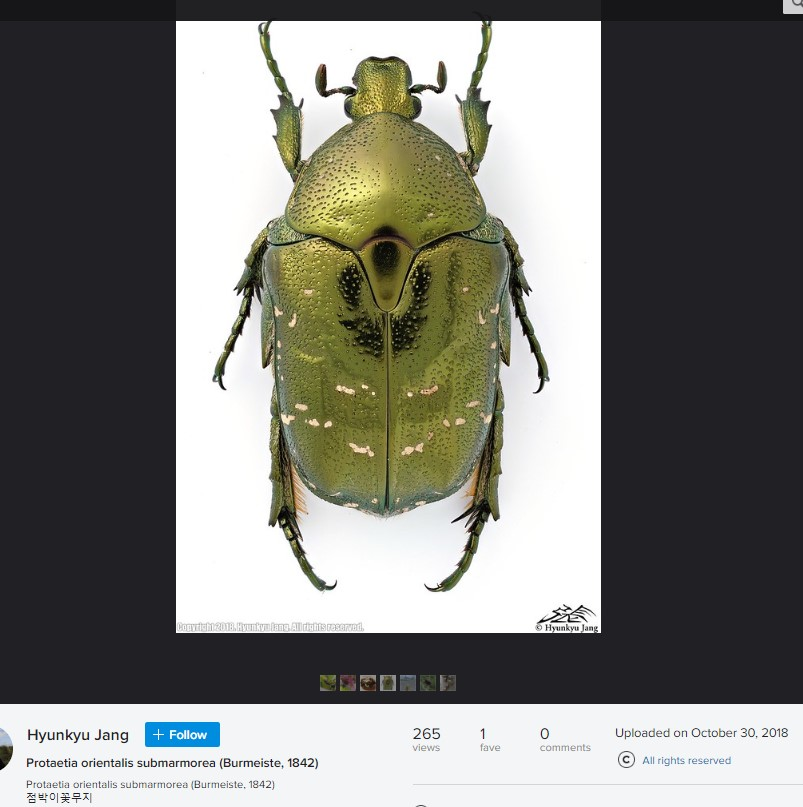Protaetia _orientalis: (194, 27, 553, 602)
